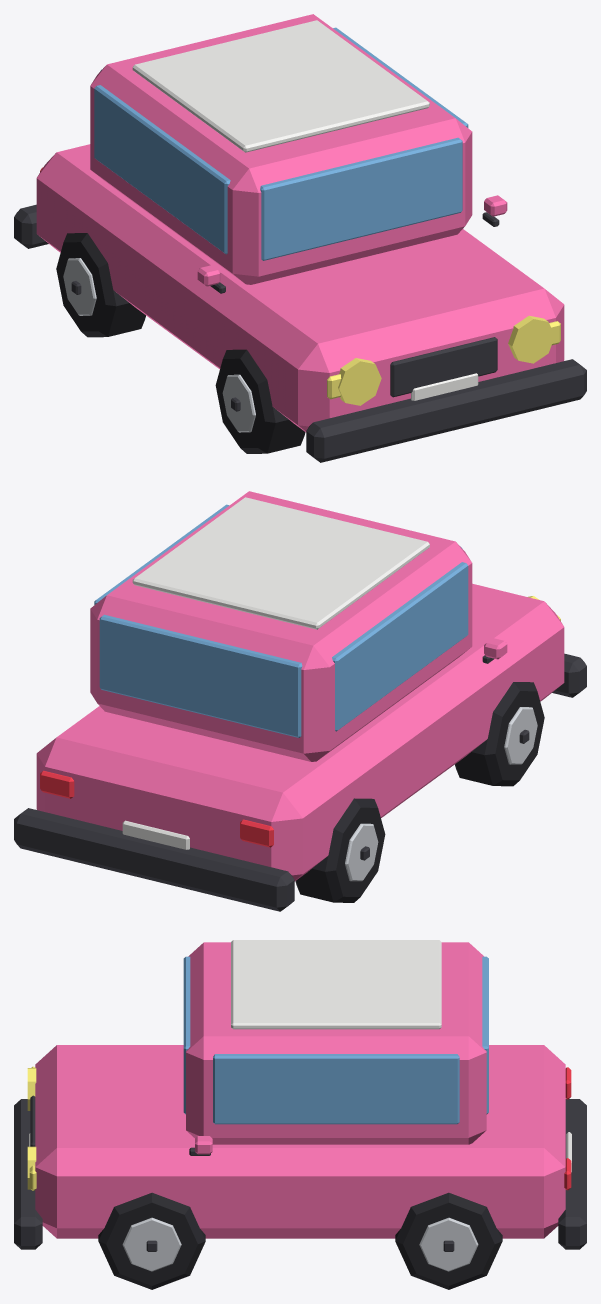
File: PinkCompactCar.fbx
3 renders of one model, top to bottom at view 1: azimuth 30°, elevation 25°; view 2: azimuth 150°, elevation 25°; view 3: azimuth 270°, elevation 25°, orthographic. The views are drawn at different scales.
Parts seen in each view (by area): view 1: PinkCompactCar, PinkCompactCar_WheelFR, PinkCompactCar_WheelBR; view 2: PinkCompactCar, PinkCompactCar_WheelBR, PinkCompactCar_WheelFR; view 3: PinkCompactCar, PinkCompactCar_WheelBL, PinkCompactCar_WheelFL.
Part boxes in pixels (left/top/right/bottom): PinkCompactCar: left=14, top=14, right=586, bottom=462; PinkCompactCar_WheelFR: left=215, top=349, right=305, bottom=453; PinkCompactCar_WheelBR: left=56, top=233, right=145, bottom=337; PinkCompactCar: left=14, top=491, right=586, bottom=911; PinkCompactCar_WheelBR: left=295, top=798, right=385, bottom=902; PinkCompactCar_WheelFR: left=455, top=682, right=544, bottom=786; PinkCompactCar: left=14, top=940, right=586, bottom=1249; PinkCompactCar_WheelBL: left=395, top=1192, right=502, bottom=1289; PinkCompactCar_WheelFL: left=98, top=1192, right=205, bottom=1289.
Size of the model in its own units: 4.55 by 3.82 by 8.
Materials: 1 (1 with a texture image).
